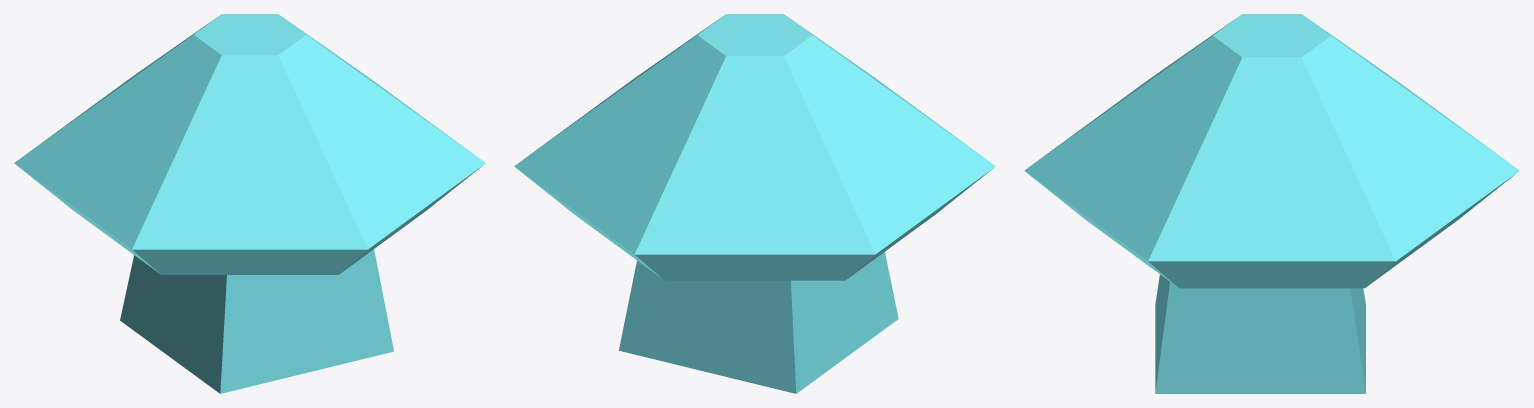
Rendered from kenney_nature-kit__mushroom_tan.fbx.
3 renders of one model, left to right at view 1: azimuth 30°, elevation 25°; view 2: azimuth 150°, elevation 25°; view 3: azimuth 270°, elevation 25°, orthographic. The views are drawn at different scales.
Visible parts, largest first — view 1: kenney_nature-kit__mushroom_tan__cave_flower; view 2: kenney_nature-kit__mushroom_tan__cave_flower; view 3: kenney_nature-kit__mushroom_tan__cave_flower.
Boxes of the visible parts, bbox=[...] form: kenney_nature-kit__mushroom_tan__cave_flower: bbox=[14, 14, 485, 393]; kenney_nature-kit__mushroom_tan__cave_flower: bbox=[514, 14, 995, 393]; kenney_nature-kit__mushroom_tan__cave_flower: bbox=[1024, 14, 1519, 393].
Size of the model in its own units: 0.6834 by 0.5496 by 0.7892.
